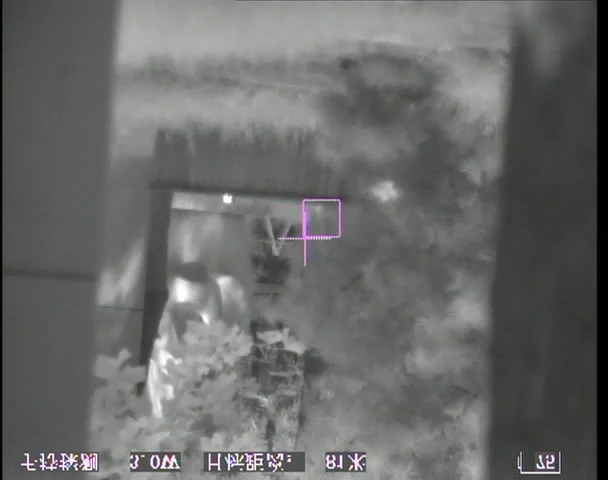my: (222, 192, 233, 204)
